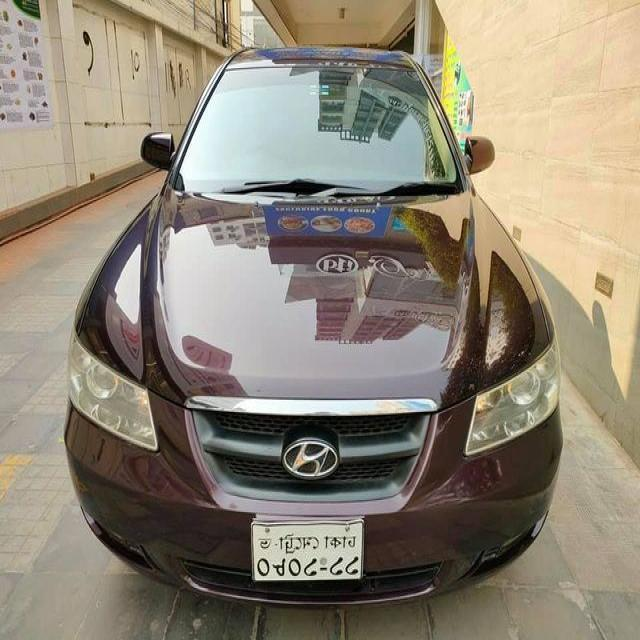numberplate: (251, 518, 366, 582)
